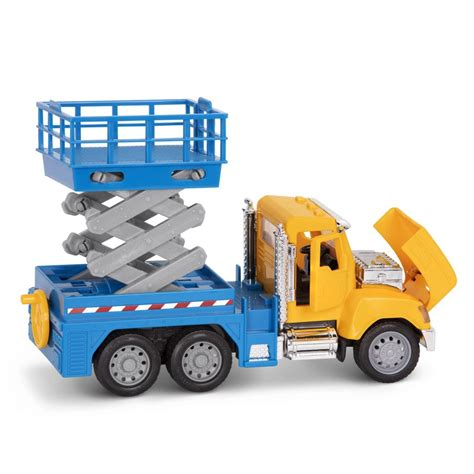Scissor Lift: (28, 100, 241, 314)
